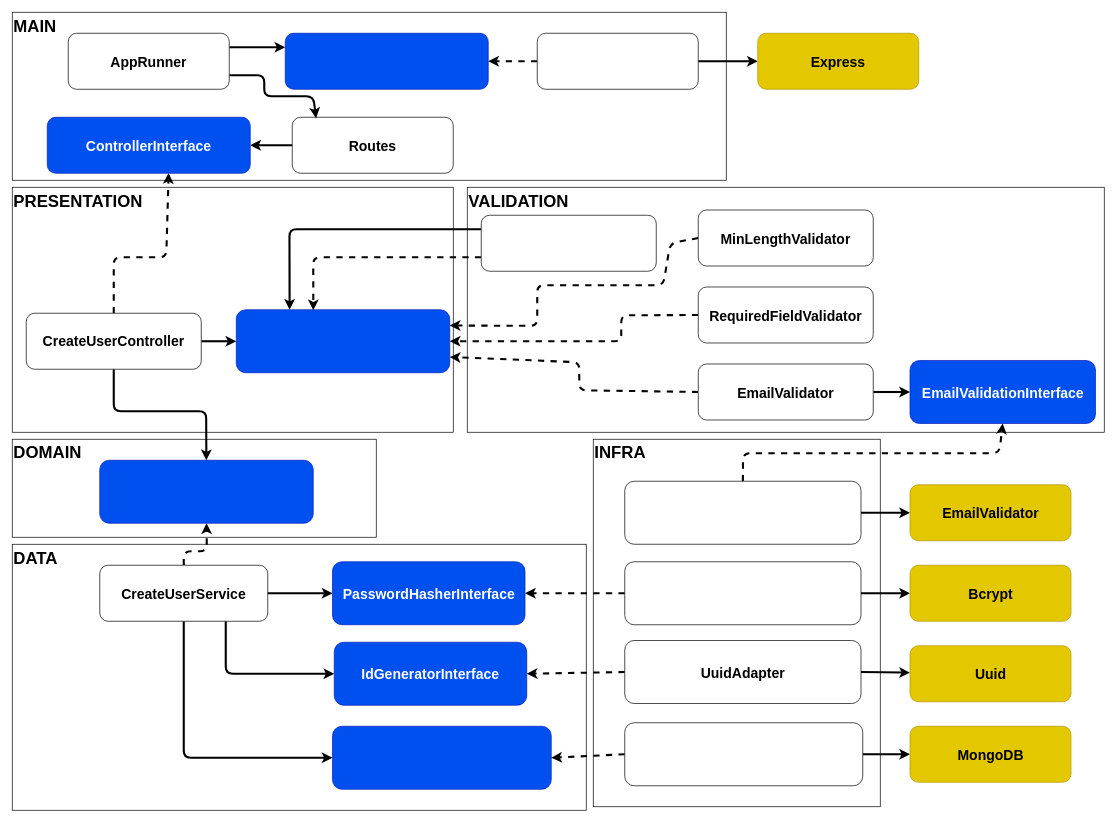
Image size: 1117x823. Some labels were removed from this diagram. Here are the shapes that lost their labels. From the top down, the centre of each, then its label:
At point (386, 61): "RunnerFrameworkInterface".
At point (617, 61): "ExpressAdapter".
At point (568, 243): "ValidatorComposite".
At point (343, 341): "ValidatorInterface".
At point (206, 491): "CreateUserUseCaseInterface".
At point (742, 512): "EmailValidatorAdapter".
At point (742, 593): "BcryptAdapter".
At point (441, 757): "CreateUserRepositoryInterface".
At point (743, 754): "UserMongoDBRepository".
